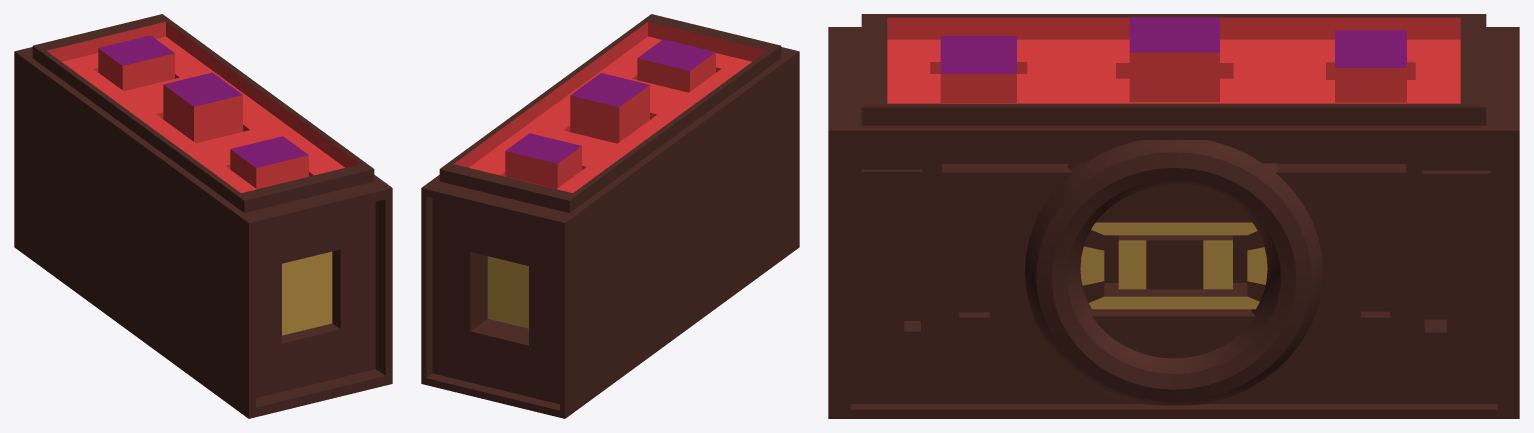
Rendered from Showcase table.fbx.
The picture shows the model from 3 angles, left to right: view 1: azimuth 30°, elevation 25°; view 2: azimuth 150°, elevation 25°; view 3: azimuth 270°, elevation 25°; orthographic projection. The views are drawn at different scales.
Parts seen in each view (by area): view 1: Cube; view 2: Cube; view 3: Cube.
Part boxes in pixels (box(x1,y1,x2,y2)): Cube: box(14, 14, 392, 418); Cube: box(421, 14, 799, 418); Cube: box(828, 14, 1519, 418).
Size of the model in its own units: 203 by 300 by 565.
